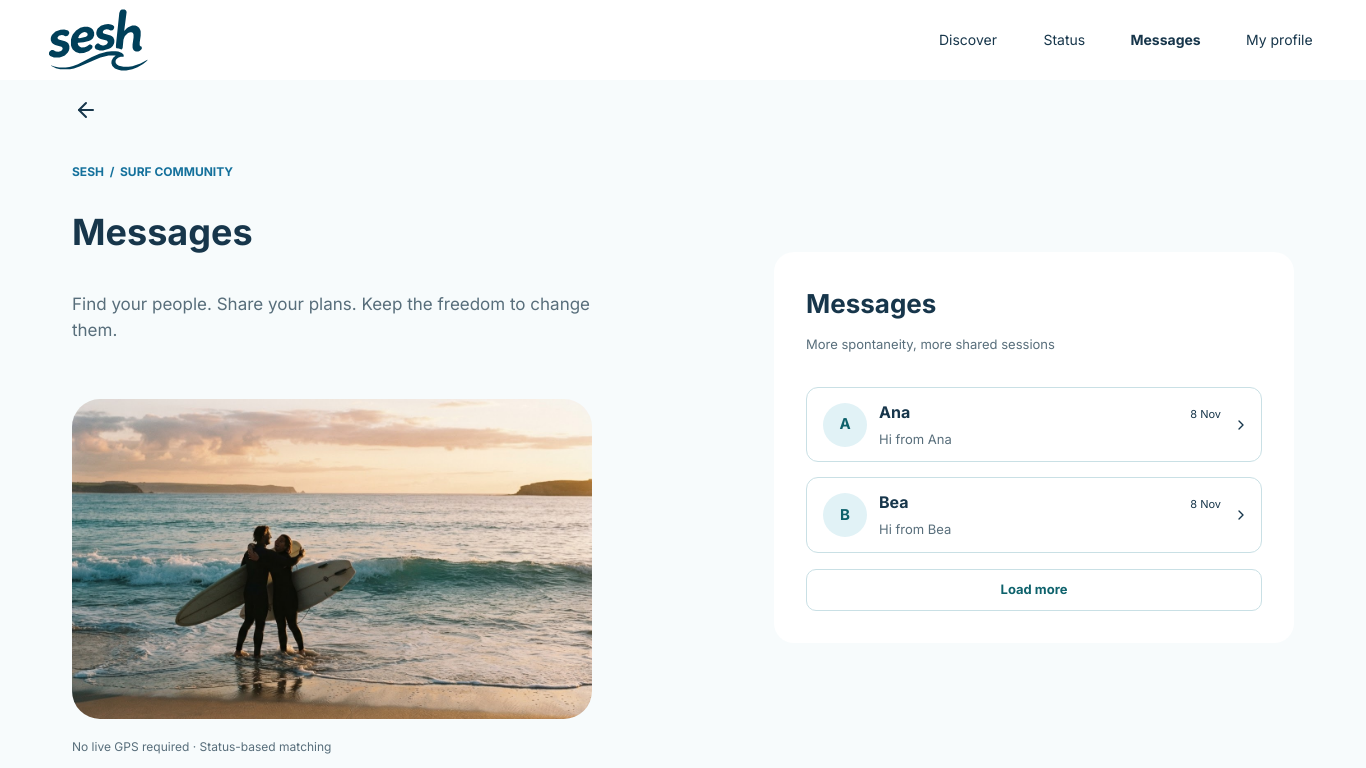
Test case: Load more › appends the next page without duplicates, shows progress, and stops at the last page
Expected: the heading "Messages" is shown, [806,288,936,319]
Click the button "Load more": (1034, 590) [806,569,1262,611]
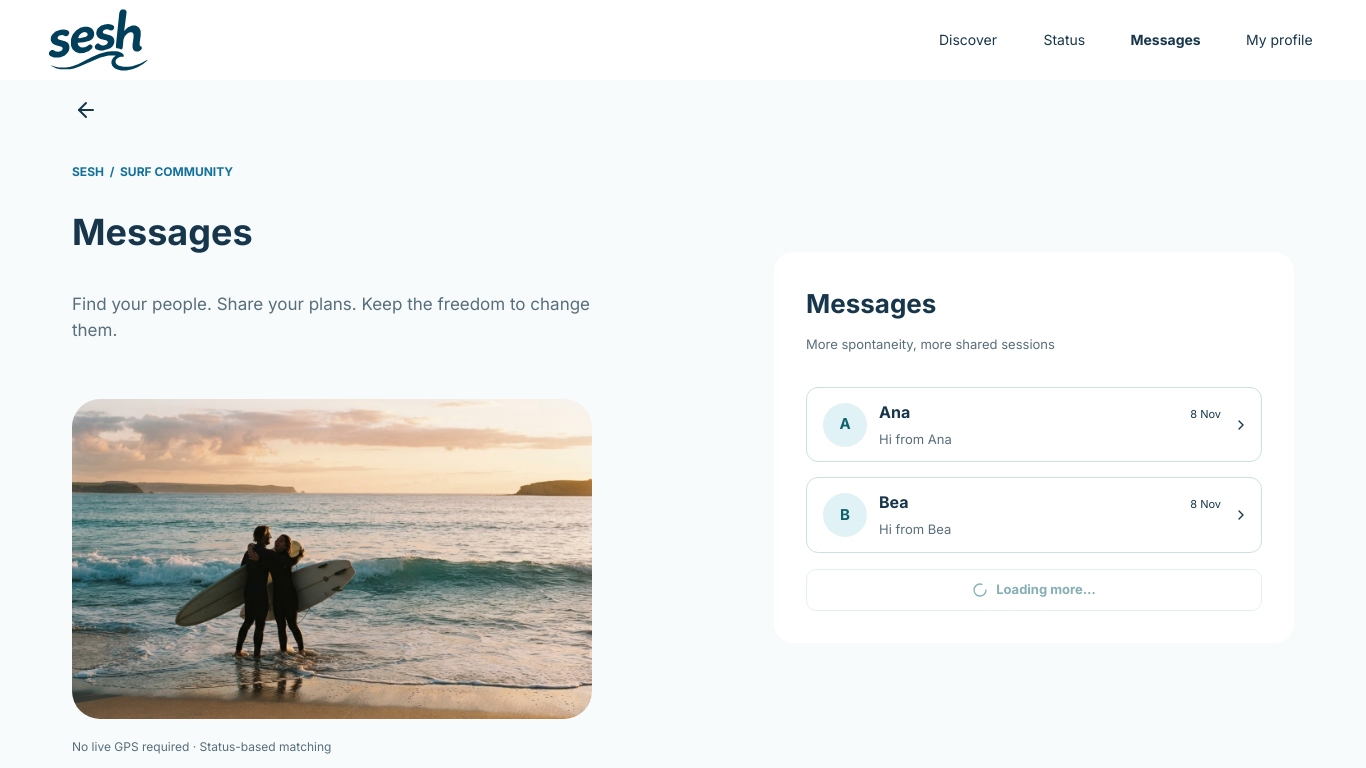
Expected: the button "Loading more…" is disabled
Click the button "Loading more…": (1034, 590) [806,569,1262,611]
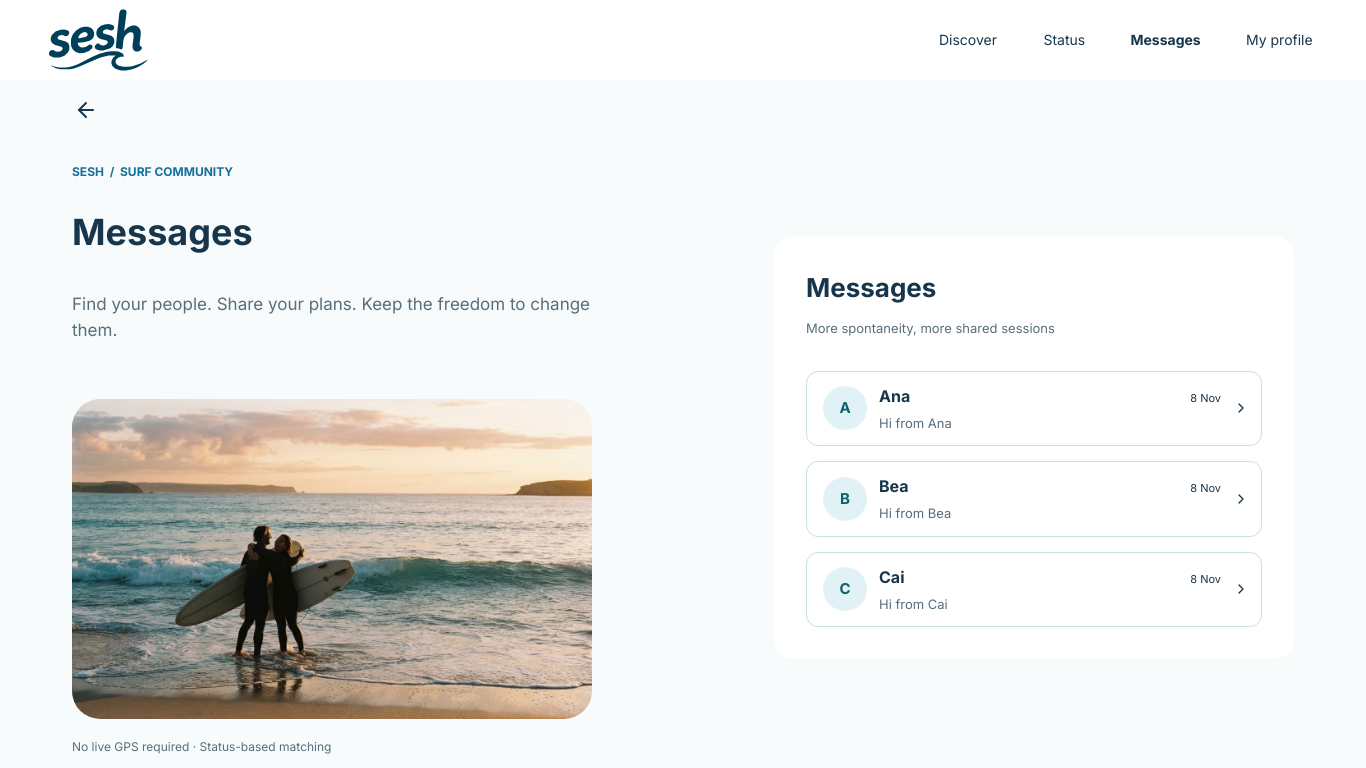
Expected: the button "Loading more…" is gone
